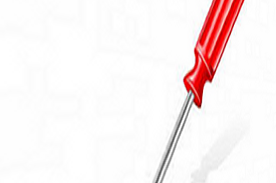Screwdriver: (147, 3, 264, 182)
